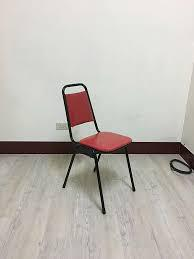chair: (32, 52, 144, 216)
